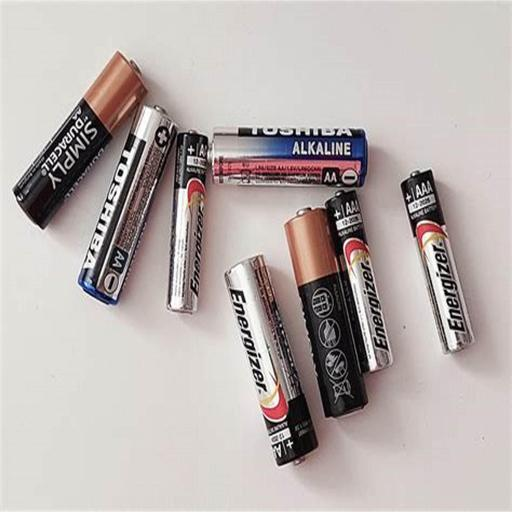battery: (13, 50, 151, 230), (78, 102, 180, 306), (224, 254, 320, 469), (284, 204, 370, 422), (400, 169, 477, 357), (325, 189, 394, 375), (207, 125, 369, 189), (166, 128, 209, 314)
